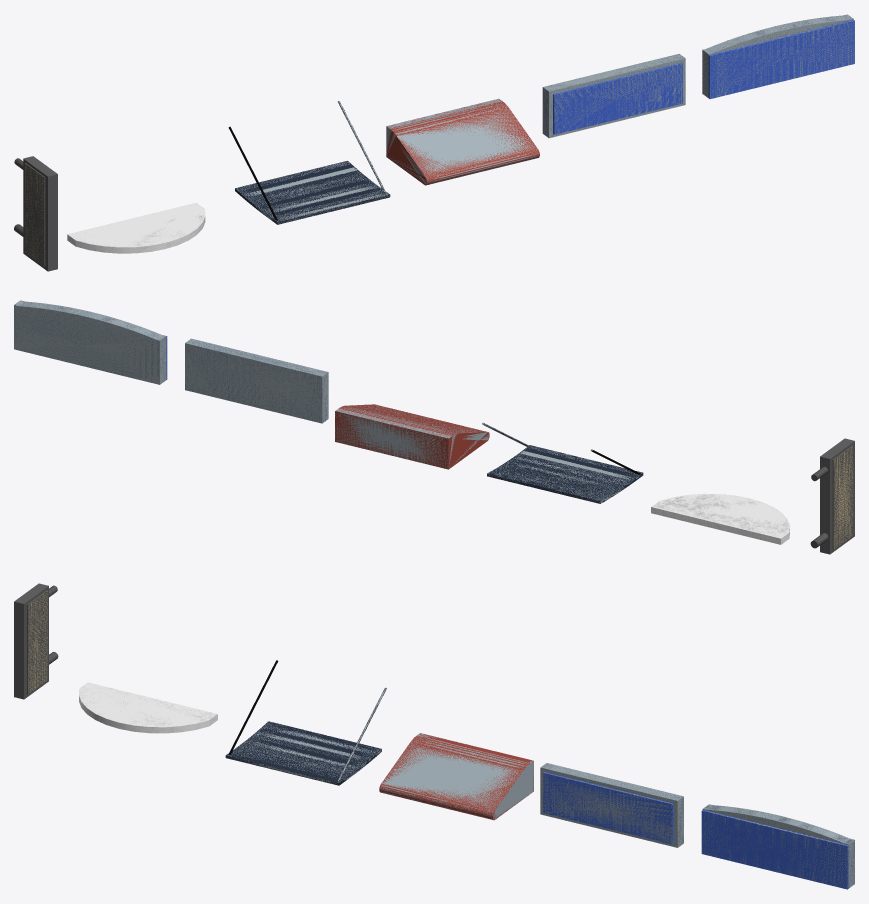
Rendered from entranceProps.fbx.
3 views of the same model, one above another, from view 1: azimuth 30°, elevation 25°; view 2: azimuth 150°, elevation 25°; view 3: azimuth 330°, elevation 25° (orthographic).
Visible parts, largest first — view 1: Group2, Group3, Group4, Group5, Group6, Group7; view 2: Group3, Group4, Group2, Group5, Group6, Group7; view 3: Group2, Group3, Group4, Group5, Group6, Group7.
Boxes of the visible parts, box(x1,y1,x2,y2) form: Group2: box(386, 98, 539, 185); Group3: box(702, 14, 854, 98); Group4: box(542, 53, 685, 138); Group5: box(228, 101, 390, 224); Group6: box(67, 202, 205, 253); Group7: box(14, 156, 57, 271); Group3: box(14, 300, 167, 384); Group4: box(185, 338, 328, 423); Group2: box(335, 404, 489, 469); Group5: box(482, 422, 643, 503); Group6: box(651, 493, 789, 544); Group7: box(810, 438, 854, 554); Group2: box(379, 733, 533, 820); Group3: box(701, 804, 854, 889); Group4: box(540, 763, 683, 847); Group5: box(225, 660, 386, 785); Group6: box(79, 682, 217, 733); Group7: box(14, 583, 58, 699).
Bounding box in the file's own units: 881 × 97.69 × 93.1.
